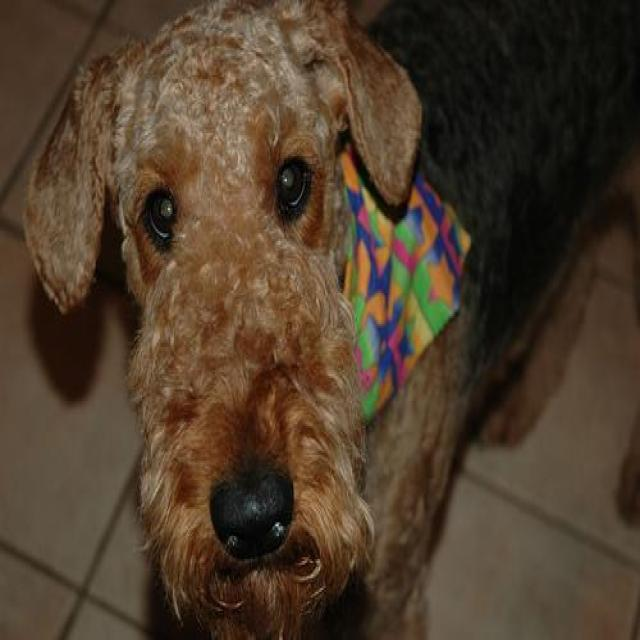airedale: (21, 4, 638, 638)
